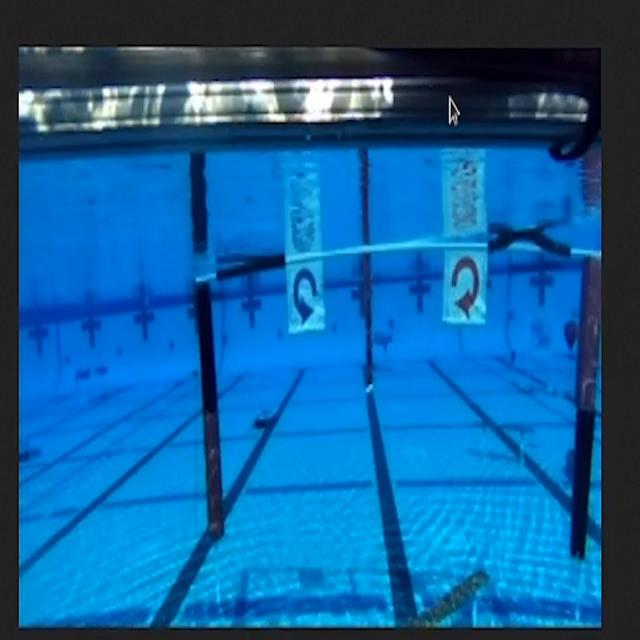Gate: (182, 236, 608, 571)
